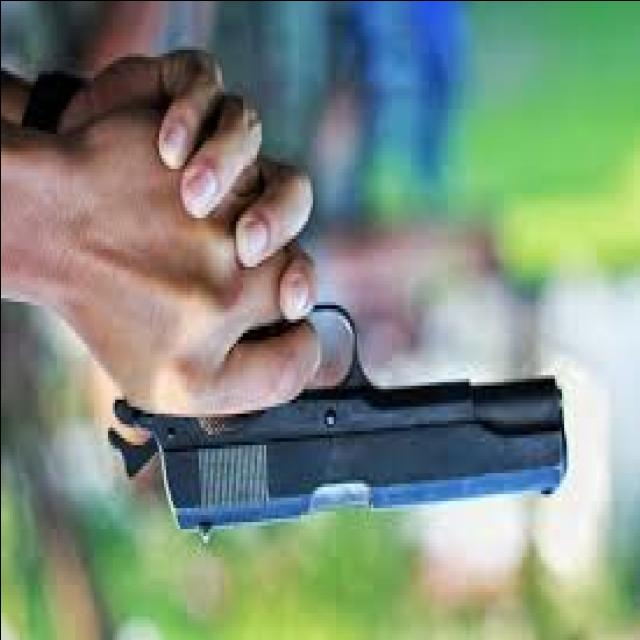weapons: (100, 194, 581, 566)
